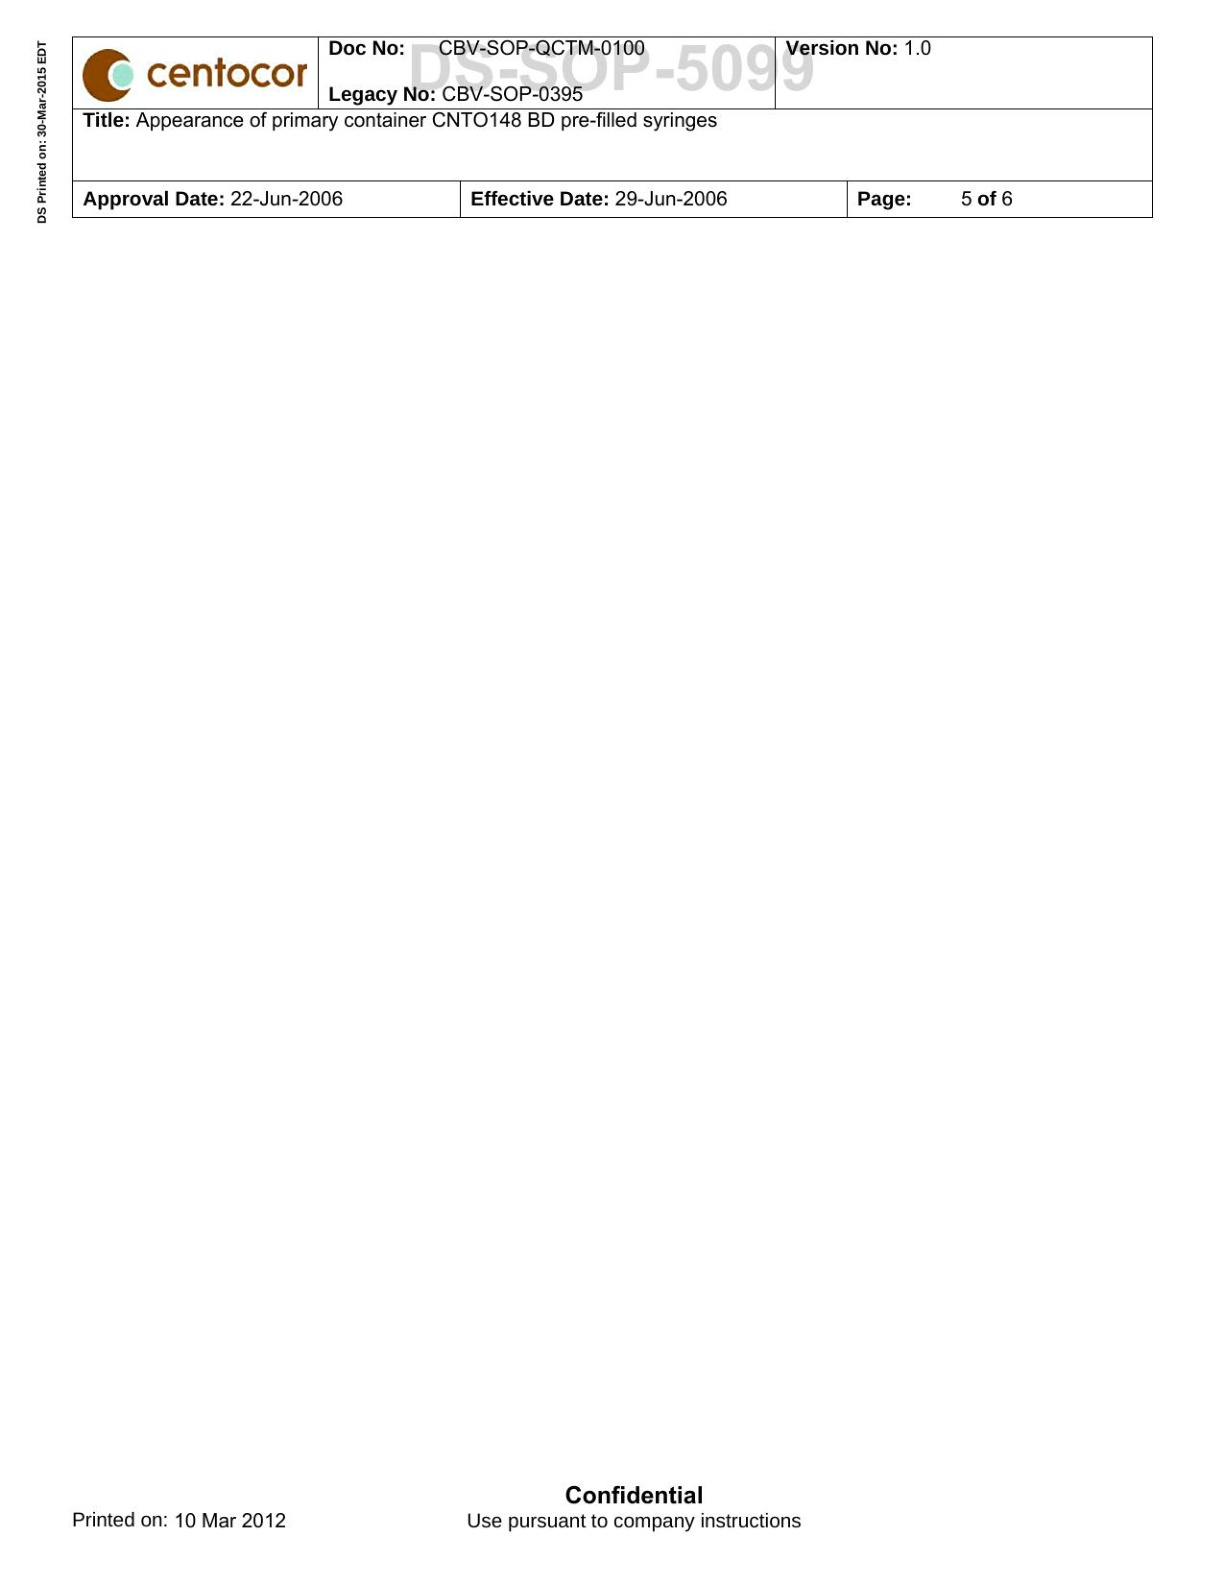merged_cells: (69, 35, 1153, 219)
